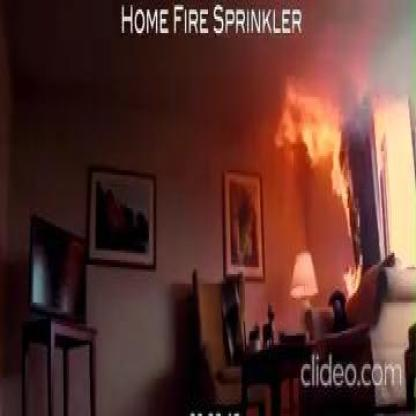fire: (266, 71, 350, 196), (334, 163, 360, 291), (374, 71, 390, 144)
